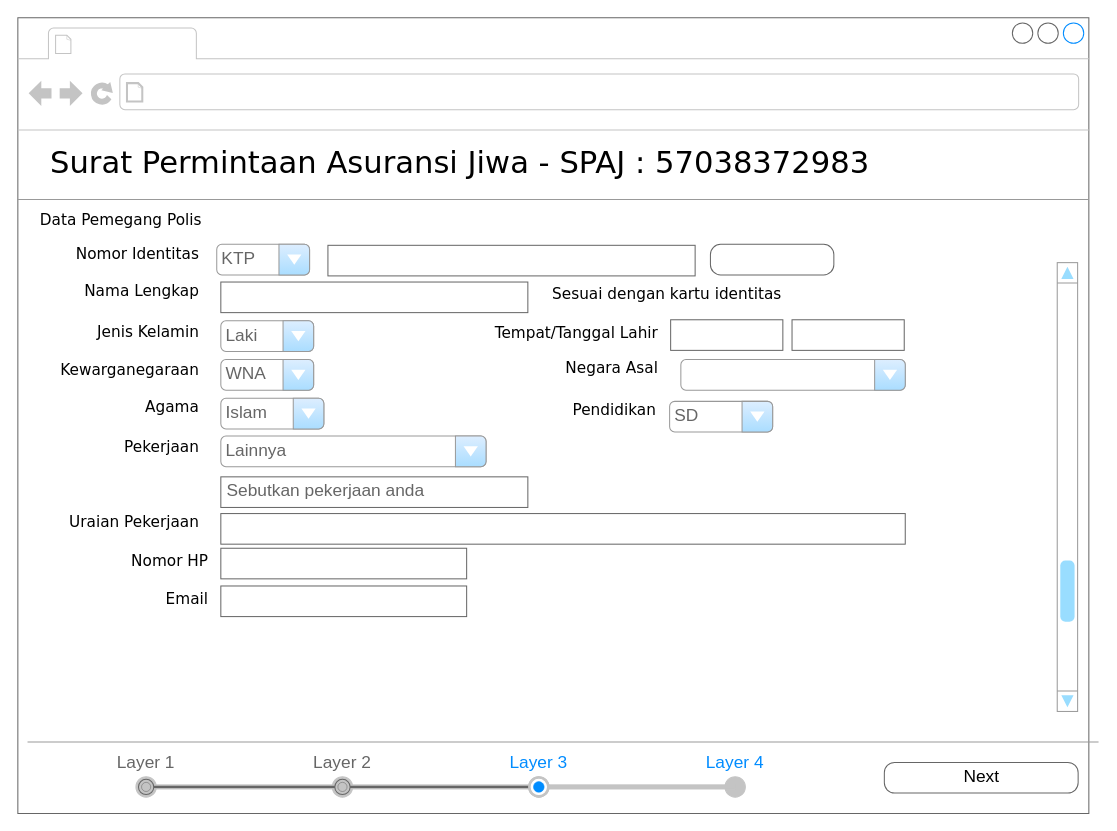
This 1117x831 diagram has some shape labels left out. The box of each missing label's shape, as (x1, y1, x2, y2) in pixels:
Arab: (680, 359, 905, 390)
SPAJ - Ibu Marinda - Hanwa Smart Invest: (78, 29, 191, 57)
Upload: (709, 243, 834, 275)
www.hanwhalife.co.id/customer/register/: (149, 78, 405, 106)
